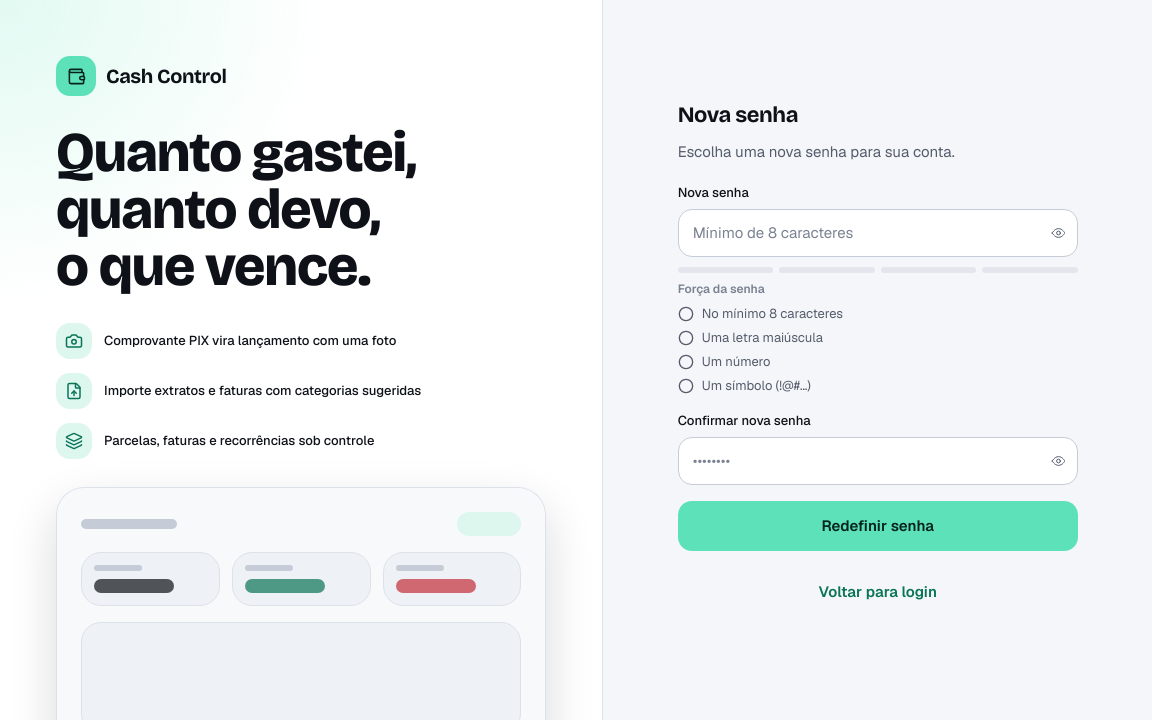
Test: ResetPasswordPage › shows validation error for password shorter than 8 chars
Expected: the heading "Nova senha" is shown, [678, 102, 798, 128]
Step 1. Type "short" into the password field labelled "Nova senha" → (878, 232), box [678, 208, 1078, 256]
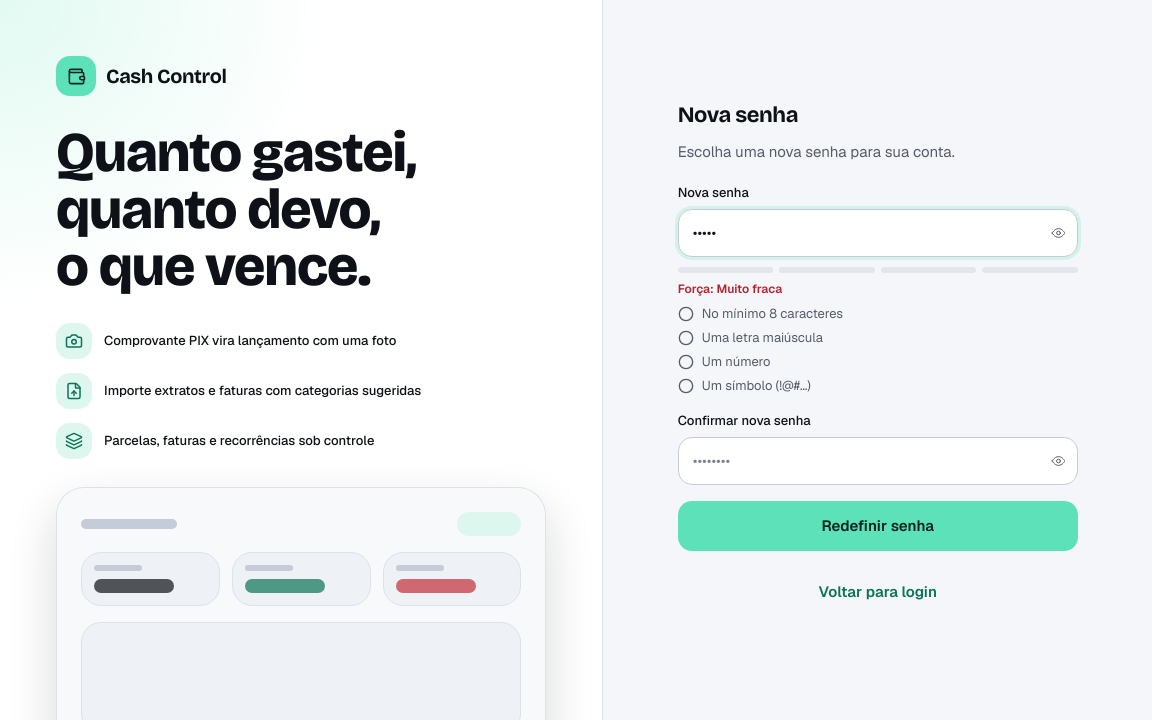
Step 2. Type "short" into the password field labelled "Confirmar nova senha" → (878, 461), box [678, 437, 1078, 485]
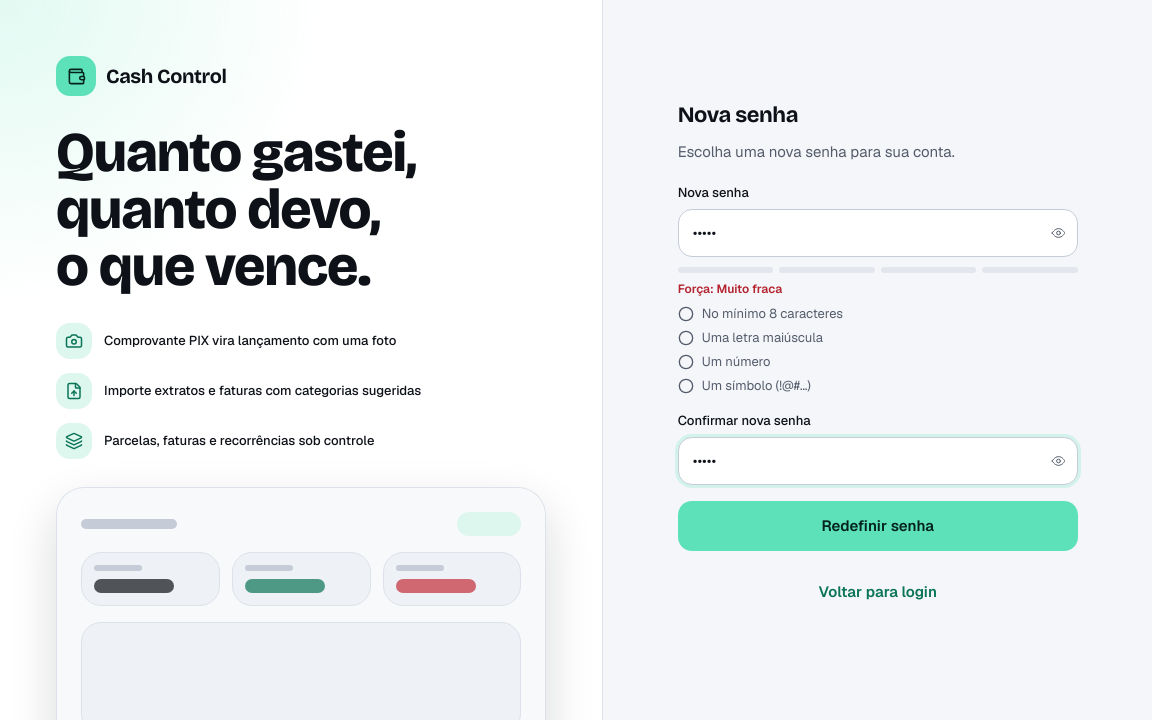
Step 3. Click the button "Redefinir senha" → (878, 526), box [678, 501, 1078, 551]
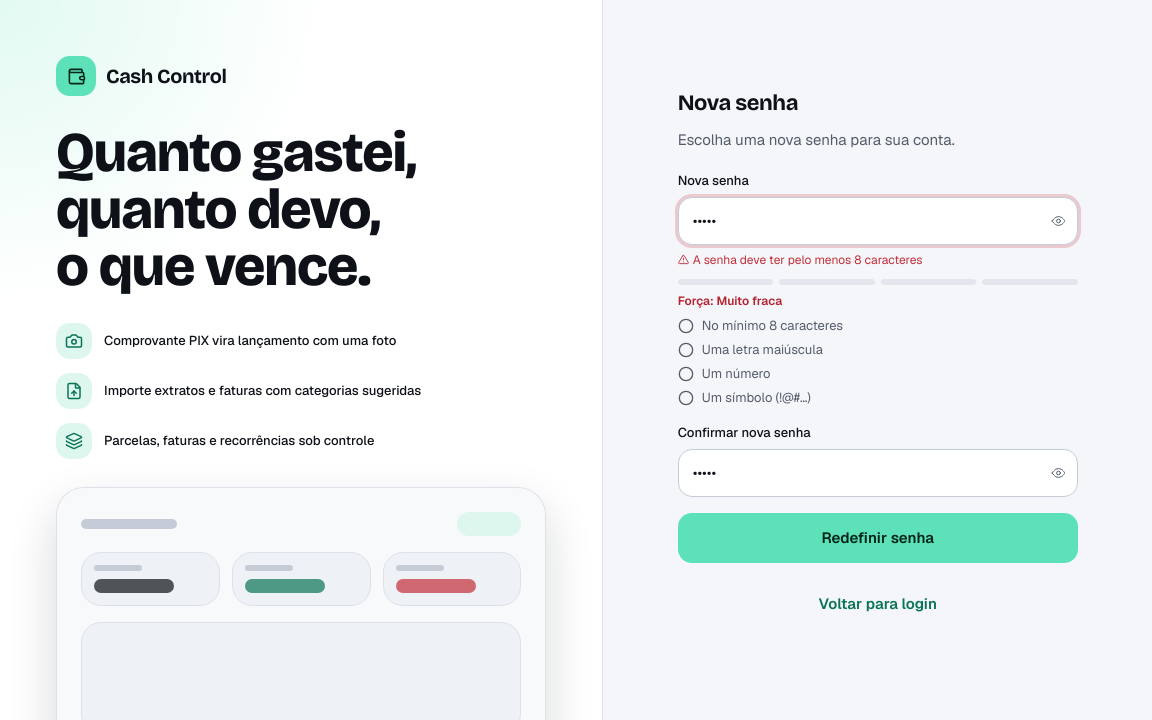
Result: the text "A senha deve ter pelo menos 8 caracteres" is shown at [678, 252, 922, 268]
